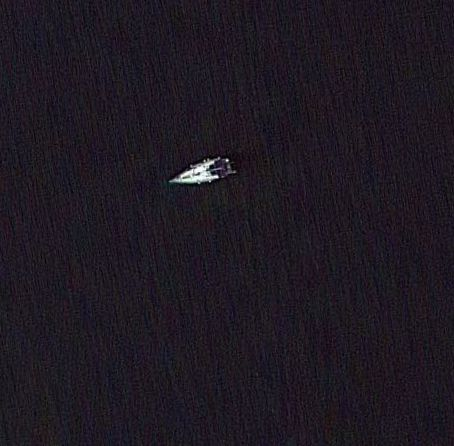boat: (165, 155, 240, 186)
